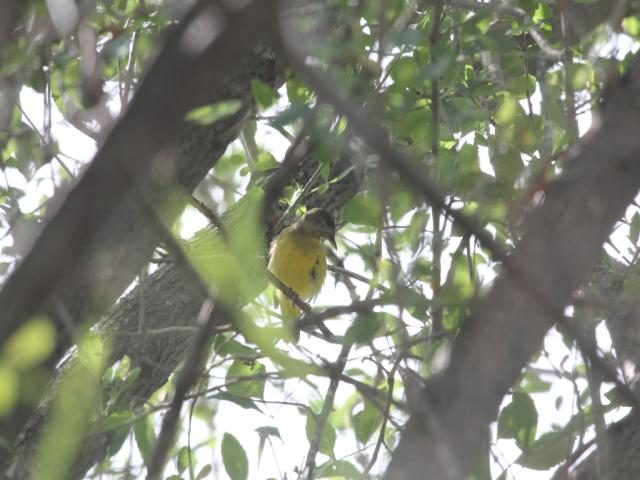Bird: (263, 202, 338, 349)
